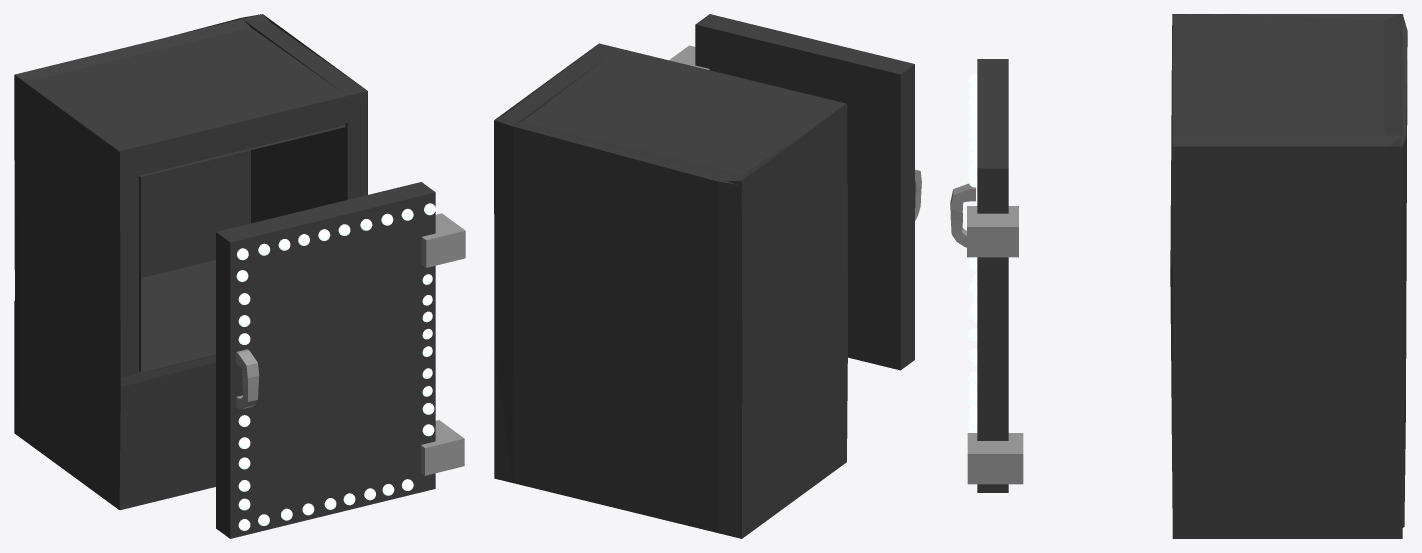
File: safe.fbx
3 views of the same model, side by side, from view 1: azimuth 30°, elevation 25°; view 2: azimuth 150°, elevation 25°; view 3: azimuth 270°, elevation 25° (orthographic). The views are drawn at different scales.
Visible parts, largest first — view 1: Cube, Sphere.036; view 2: Cube, Sphere.036; view 3: Cube, Sphere.036.
Part boxes in pixels (x1,y1,x2,y2): Cube: [14, 14, 367, 510]; Sphere.036: [216, 182, 465, 538]; Cube: [494, 43, 847, 538]; Sphere.036: [669, 14, 921, 370]; Cube: [1170, 14, 1407, 538]; Sphere.036: [950, 59, 1023, 492].
Size of the model in its own units: 277 by 377 by 397.
